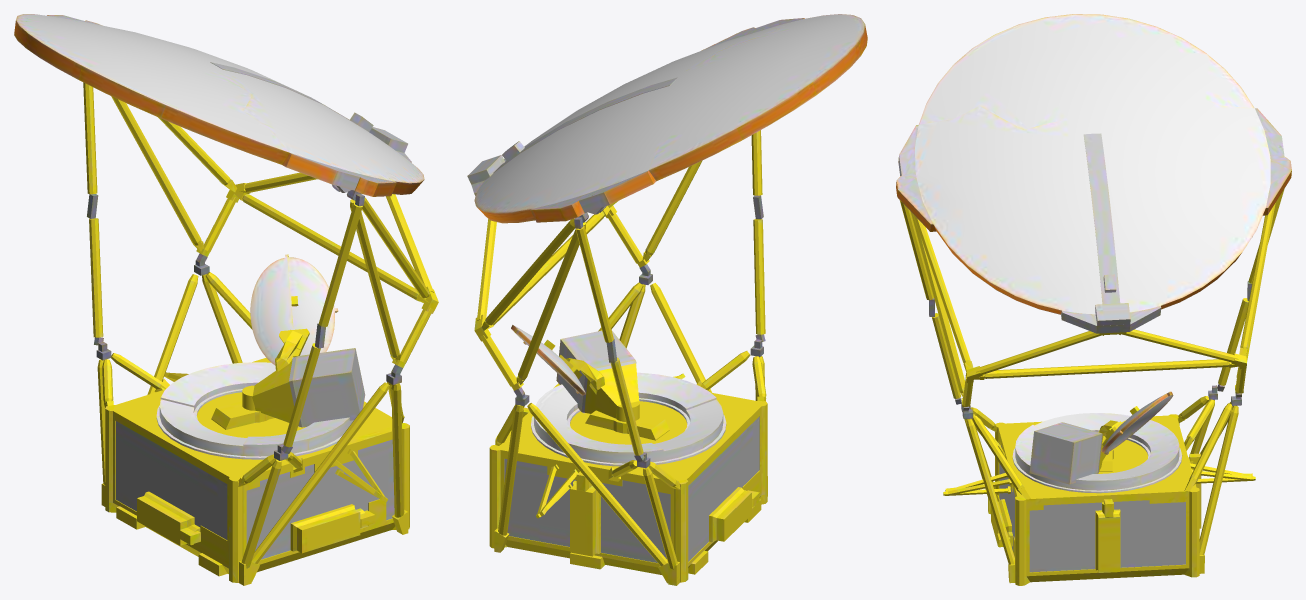
The model's file is AMSR3.glb.
The picture shows the model from 3 angles, left to right: view 1: azimuth 30°, elevation 25°; view 2: azimuth 150°, elevation 25°; view 3: azimuth 270°, elevation 25°; orthographic projection. The views are drawn at different scales.
Parts seen in each view (by area): view 1: GOSAT-GW_AMSR_antenna, GOSAT-GW_AMSR; view 2: GOSAT-GW_AMSR_antenna, GOSAT-GW_AMSR; view 3: GOSAT-GW_AMSR_antenna, GOSAT-GW_AMSR.
Boxes of the visible parts, box(x1,y1,x2,y2) form: GOSAT-GW_AMSR_antenna: box(14, 14, 438, 585); GOSAT-GW_AMSR: box(211, 254, 365, 429); GOSAT-GW_AMSR_antenna: box(467, 14, 867, 585); GOSAT-GW_AMSR: box(511, 325, 669, 440); GOSAT-GW_AMSR_antenna: box(896, 14, 1291, 585); GOSAT-GW_AMSR: box(1029, 391, 1173, 484).
Size of the model in its own units: 1.98 by 2.72 by 2.21.
Materials: 1 (1 with a texture image).
